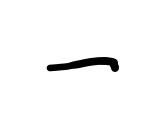minus: (46, 57, 119, 73)
